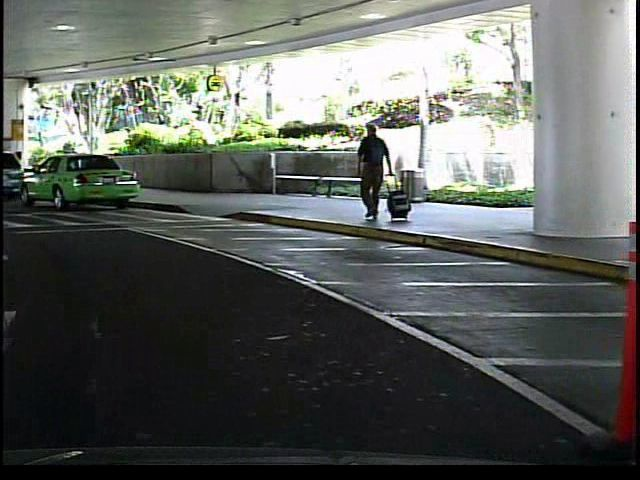person: (351, 117, 396, 230)
